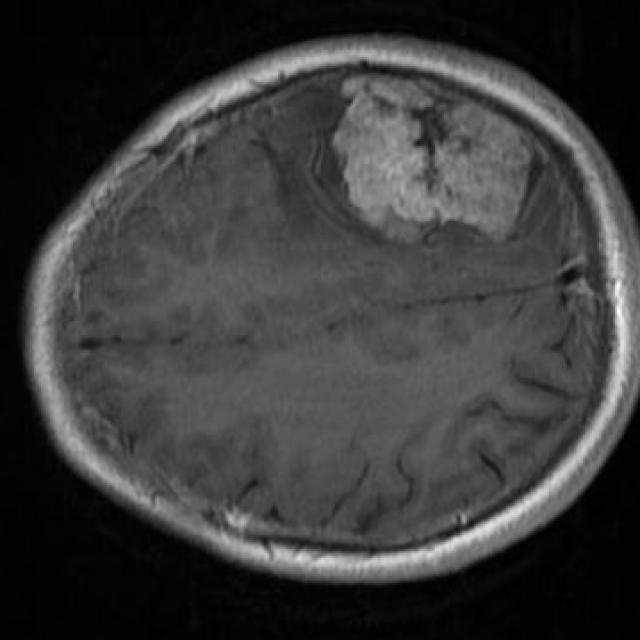meningioma: (335, 77, 531, 235)
